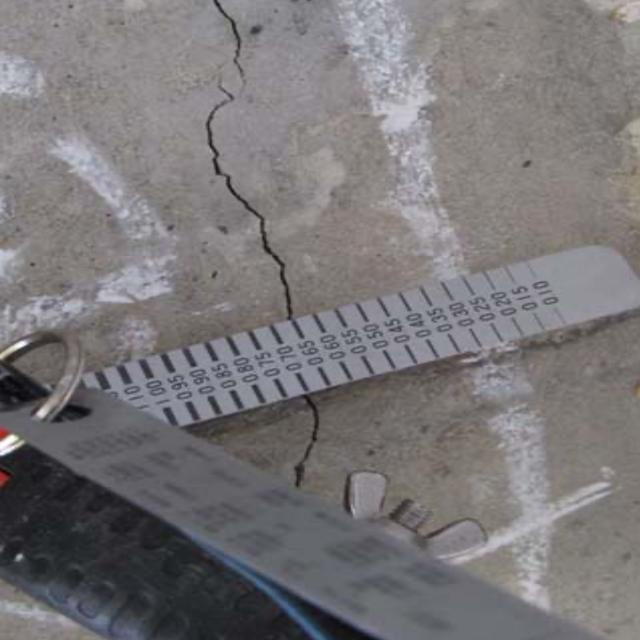crack: (195, 7, 302, 312), (284, 397, 326, 496)
